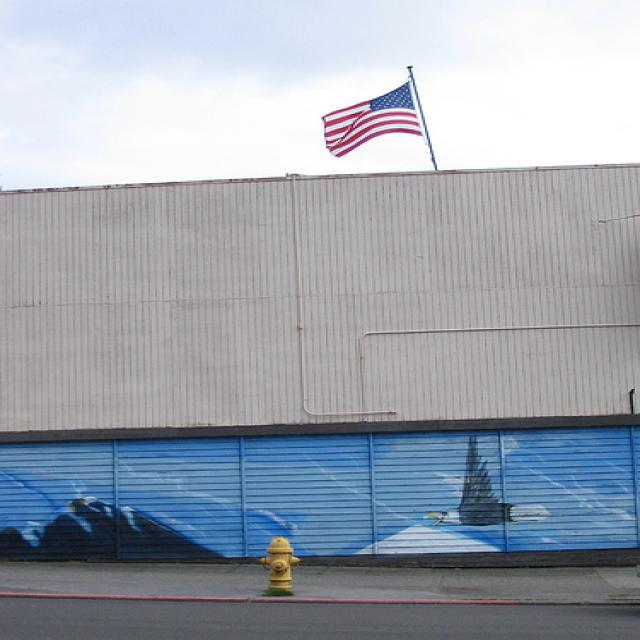fire_hydrant: (254, 535, 302, 597)
